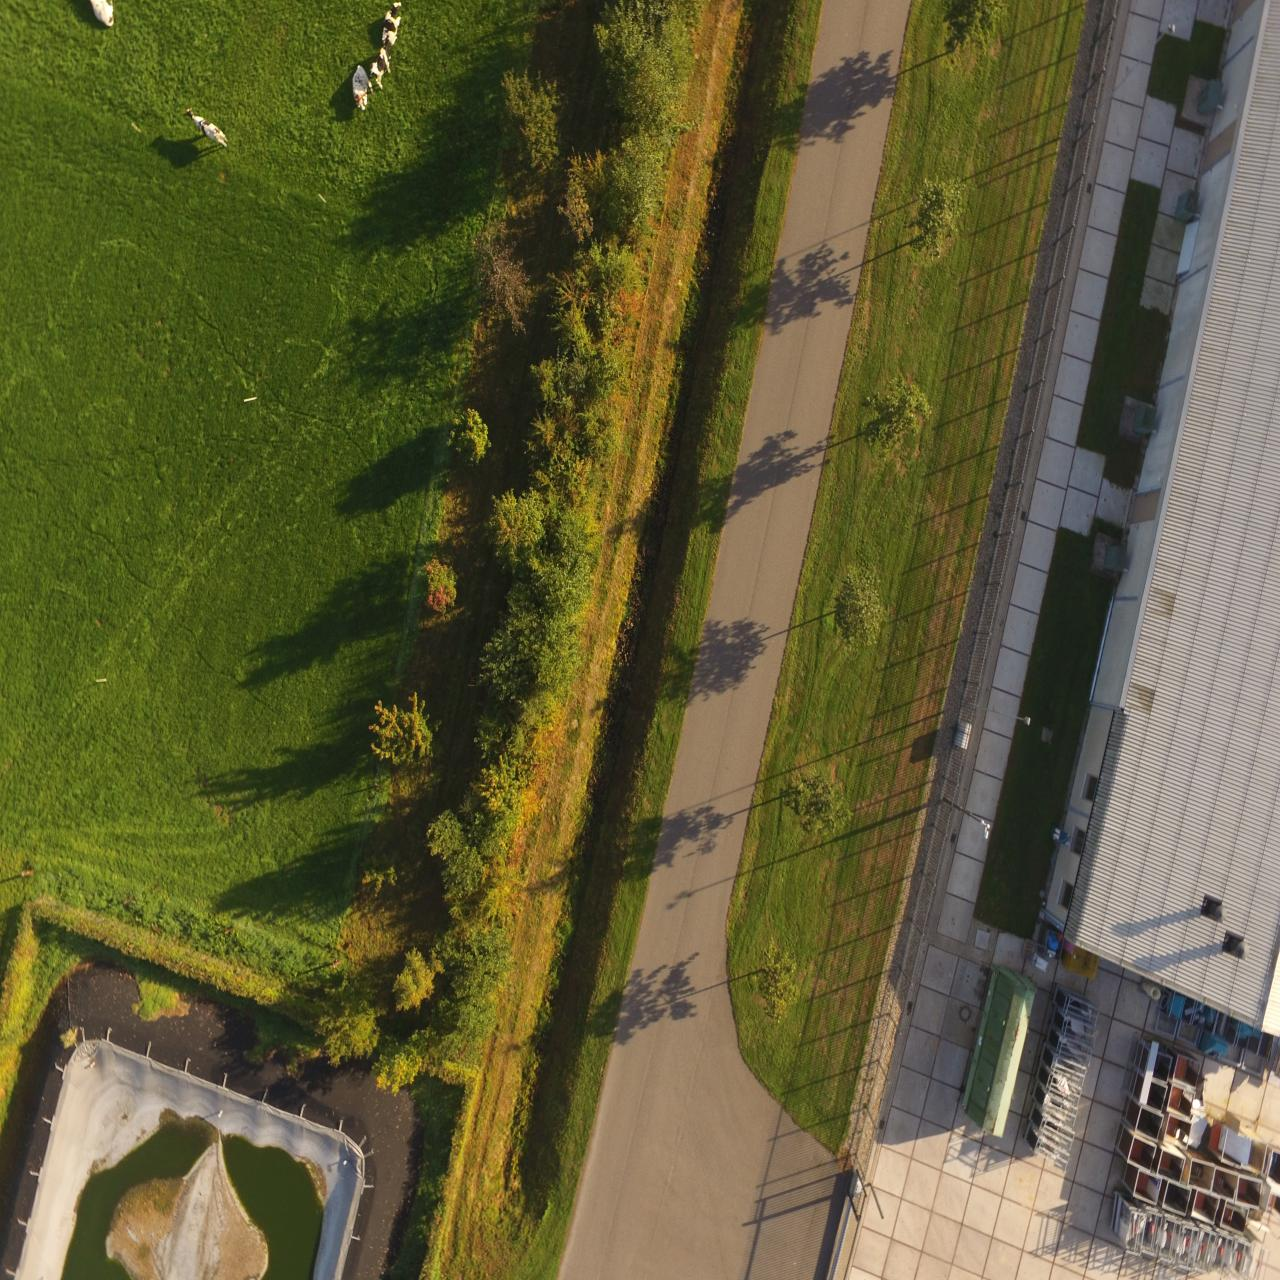cow: (182, 107, 237, 161), (374, 0, 418, 45), (345, 59, 376, 114), (367, 42, 394, 90)
